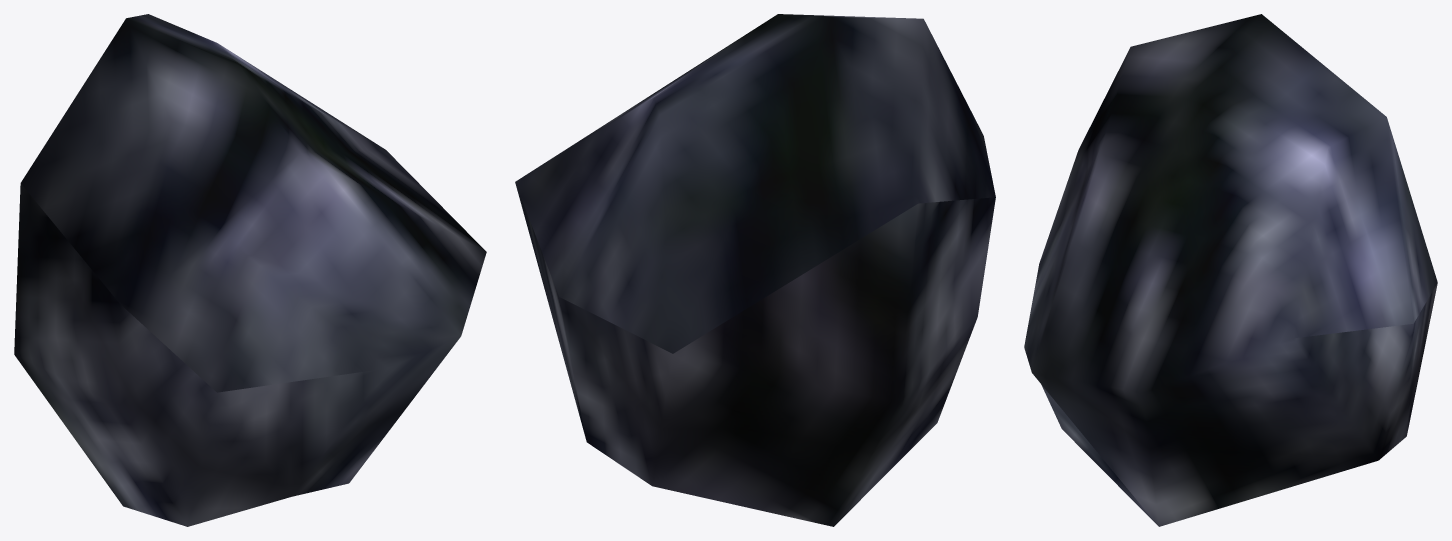
Rendered from nar_condra_7_arm_left.glb.
The picture shows the model from 3 angles, left to right: view 1: azimuth 30°, elevation 25°; view 2: azimuth 150°, elevation 25°; view 3: azimuth 270°, elevation 25°; orthographic projection. The views are drawn at different scales.
Visible parts, largest first — view 1: model_nar_condra_7_arm_left; view 2: model_nar_condra_7_arm_left; view 3: model_nar_condra_7_arm_left.
Part boxes in pixels (bbox=[...]): model_nar_condra_7_arm_left: bbox=[14, 14, 486, 526]; model_nar_condra_7_arm_left: bbox=[515, 14, 995, 526]; model_nar_condra_7_arm_left: bbox=[1024, 14, 1437, 526].
Size of the model in its own units: 0.3096 by 0.3633 by 0.3004.
1 material, 1 textured.
